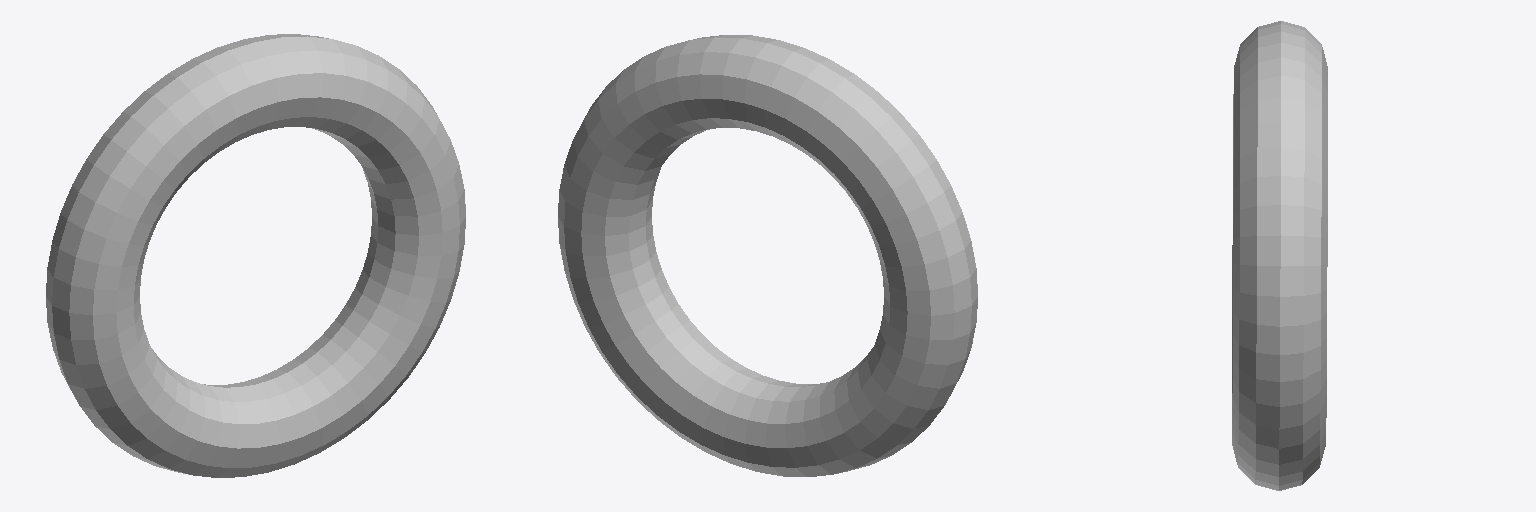
Rendered from tire2.obj.
The picture shows the model from 3 angles: view 1: azimuth 30°, elevation 25°; view 2: azimuth 150°, elevation 25°; view 3: azimuth 270°, elevation 25°; orthographic projection.
Visible parts, largest first — view 1: トーラス; view 2: トーラス; view 3: トーラス.
Part boxes in pixels (x1,y1,x2,y2): トーラス: (46, 34, 465, 477); トーラス: (558, 35, 977, 476); トーラス: (1232, 21, 1327, 490).
Size of the model in its own units: 2.5 by 2.5 by 0.5114.